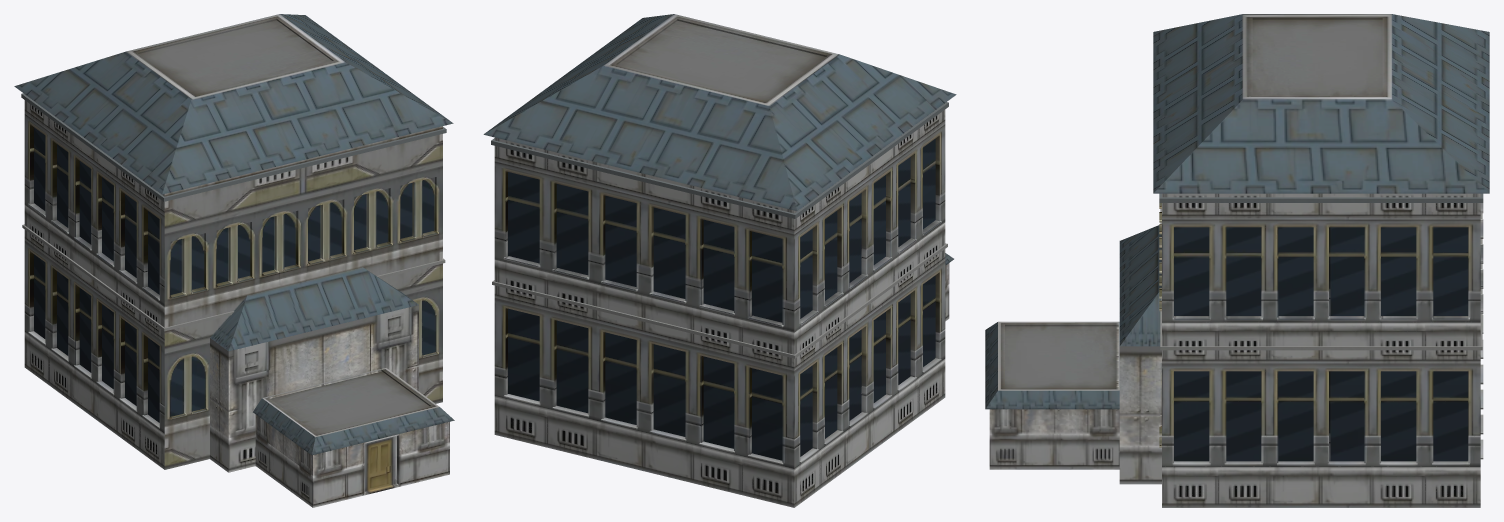
Rendered from s_main_rightwing_cad.glb.
3 views of the same model, side by side, from view 1: azimuth 30°, elevation 25°; view 2: azimuth 150°, elevation 25°; view 3: azimuth 270°, elevation 25° (orthographic). The views are drawn at different scales.
Visible parts, largest first — view 1: S_HC_Rightwing; view 2: S_HC_Rightwing; view 3: S_HC_Rightwing.
Part boxes in pixels (x1,y1,x2,y2): S_HC_Rightwing: (14, 14, 454, 507); S_HC_Rightwing: (483, 14, 956, 507); S_HC_Rightwing: (985, 14, 1489, 507).
Bounding box in the file's own units: 16.3 × 17.59 × 21.48.
1 material, 1 textured.
